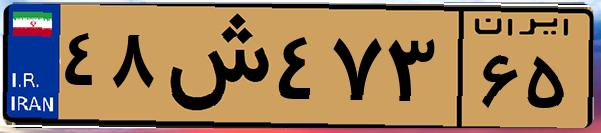3: (385, 28, 445, 110)
4: (270, 28, 330, 110), (57, 26, 110, 100)
5: (525, 38, 570, 115)
6: (475, 38, 525, 113)
7: (330, 28, 385, 110)
8: (110, 28, 158, 98)
ش: (158, 12, 270, 120)
